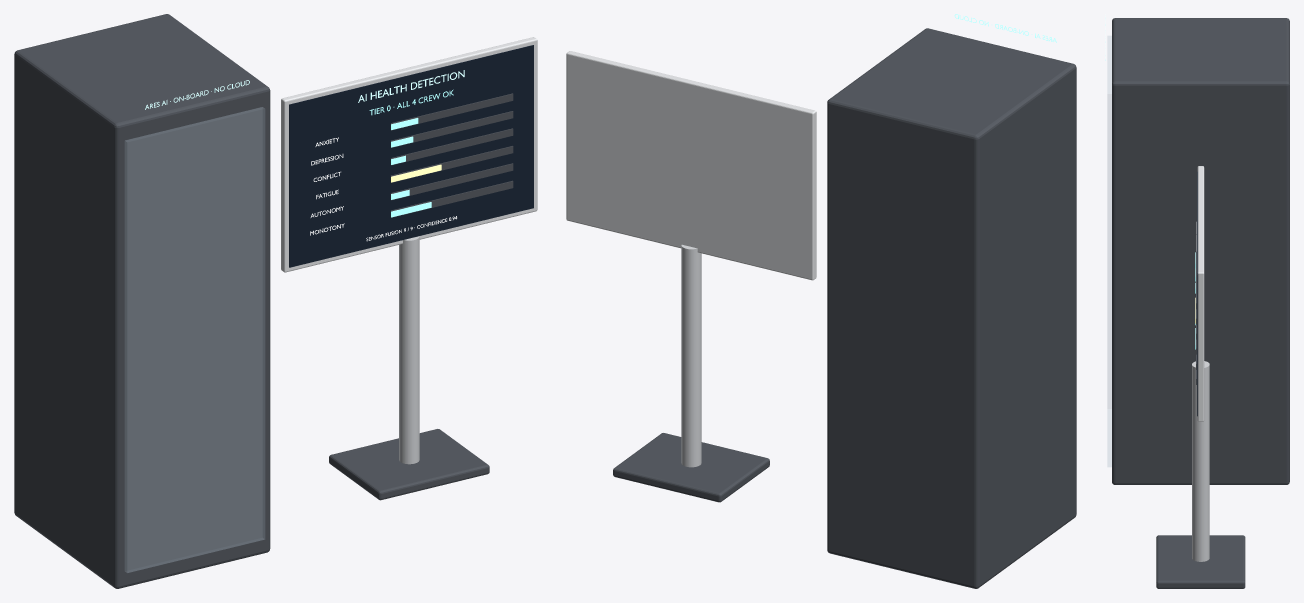
The model's file is ai_health_hub.glb.
3 views of the same model, side by side, from view 1: azimuth 30°, elevation 25°; view 2: azimuth 150°, elevation 25°; view 3: azimuth 270°, elevation 25° (orthographic). The views are drawn at different scales.
Parts seen in each view (by area): view 1: Compute_Cabinet, Cabinet_Glass_Door, Cube.025 (×6), Unit_LED, Unit_LED.001, Cabinet_Label; view 2: Compute_Cabinet; view 3: Compute_Cabinet, Cabinet_Glass_Door.
Part boxes in pixels (<box>): Compute_Cabinet: <box>14,14,537,588</box>; Cabinet_Glass_Door: <box>125,107,264,572</box>; Cube.025 (×6): <box>390,93,513,217</box>; Unit_LED: <box>310,137,456,241</box>; Unit_LED.001: <box>369,89,453,217</box>; Cabinet_Label: <box>145,70,464,109</box>; Compute_Cabinet: <box>566,28,1076,588</box>; Compute_Cabinet: <box>1112,18,1289,588</box>; Cabinet_Glass_Door: <box>1107,36,1111,466</box>.
Size of the model in its own units: 2.12 by 2.07 by 0.8304.
5 materials, 5 textured.
